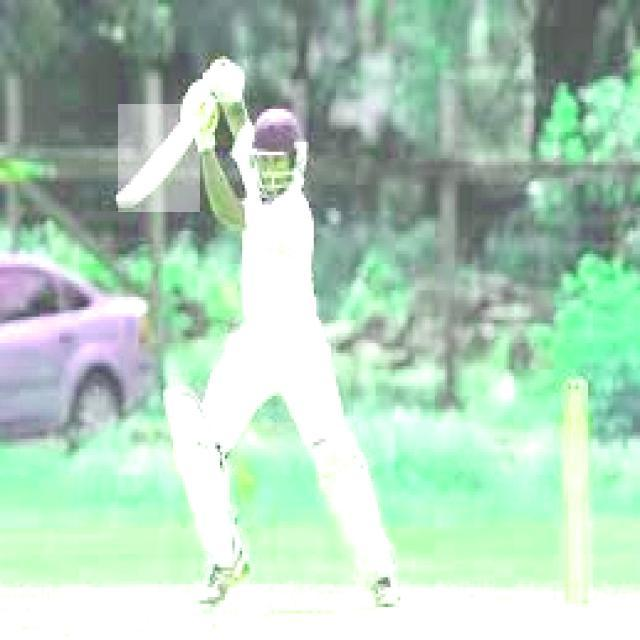bat: (117, 105, 202, 212)
toe: (114, 195, 134, 215)
